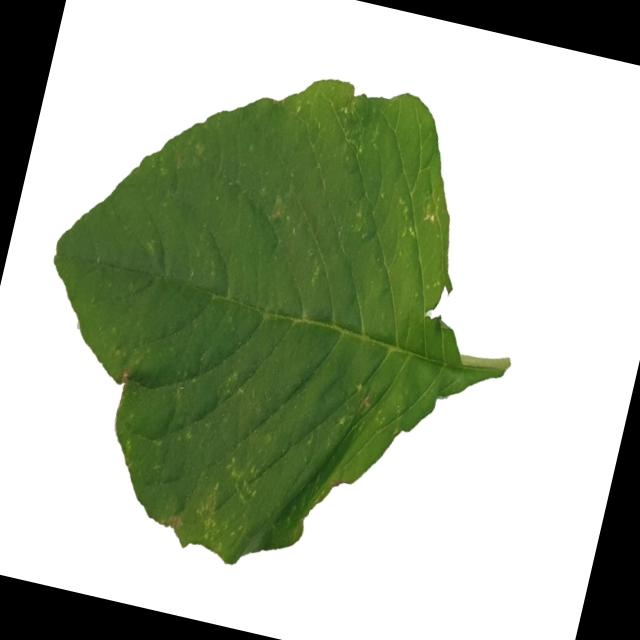Medicinal-Arive Dantu: (0, 9, 570, 608)
